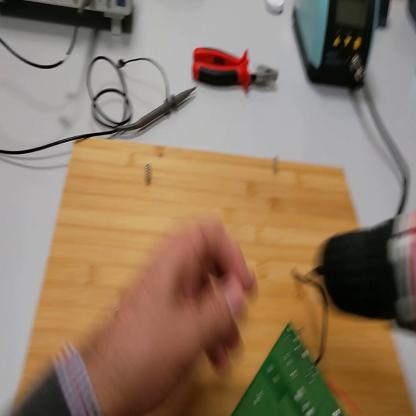electric screwdriver: (318, 210, 416, 335)
hand: (106, 216, 255, 415)
low voltage board: (229, 274, 351, 415)
oscilloscope: (35, 2, 135, 35)
oscilloscope probe tip: (118, 84, 198, 135)
pliers: (188, 42, 281, 102)
socket: (377, 2, 392, 30), (404, 1, 416, 31)
welder station: (292, 2, 381, 91)
working area: (11, 137, 416, 416)
